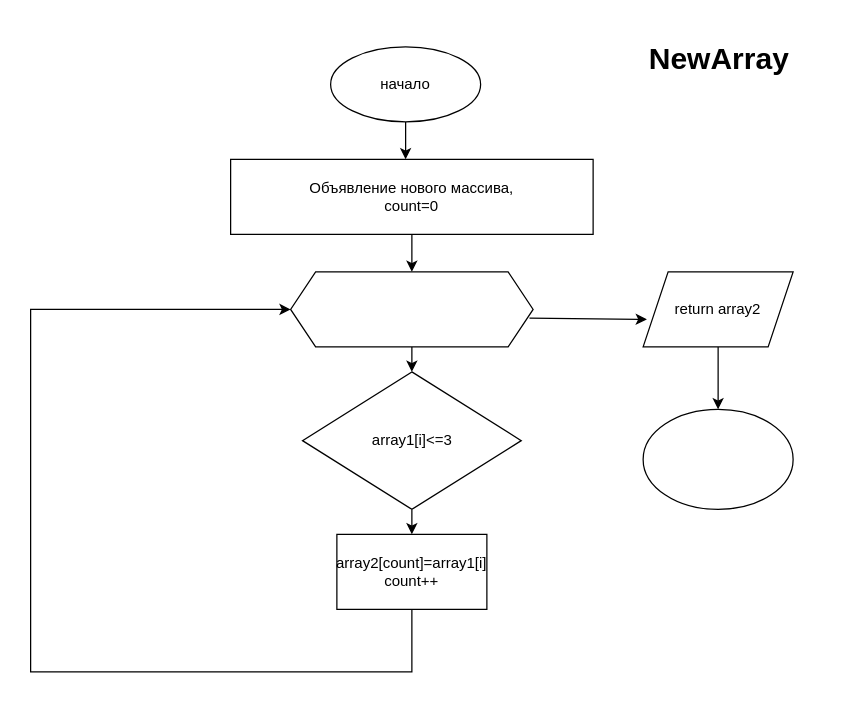
The diagram is 865 pixels wide and 704 high, and some of its shapes have lost their labels. Here are the shapes that lost their labels. From the top down, the centre of each, then its label:
At [411,309]: "i=0,array1.length,i++".
At [717,458]: "конец".
